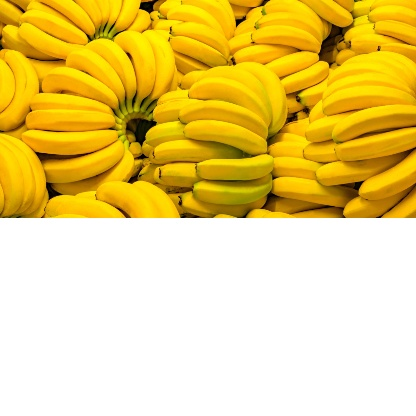chuoi: (31, 45, 183, 195), (147, 64, 285, 211), (313, 48, 411, 208), (256, 9, 335, 113), (152, 6, 250, 74)
